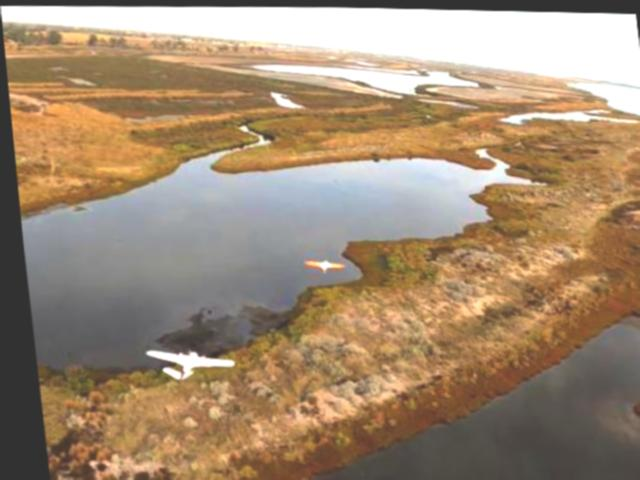uav: (137, 345, 228, 385), (297, 255, 344, 271)
